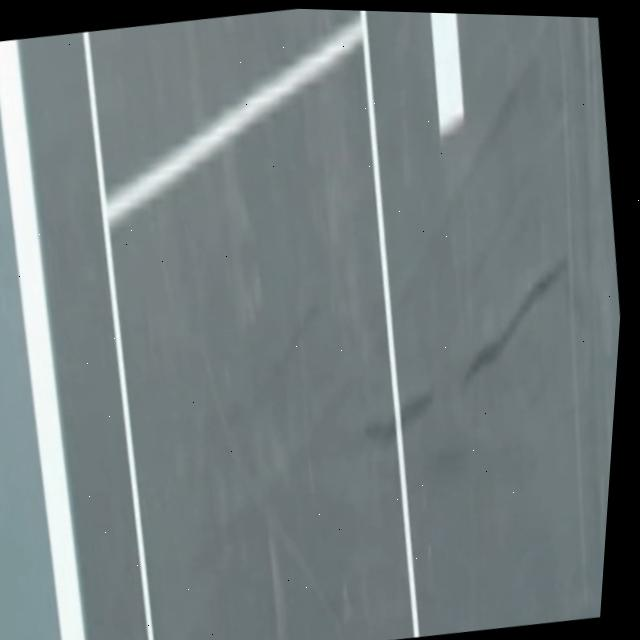center: (431, 13, 463, 137)
left: (0, 40, 85, 640)
